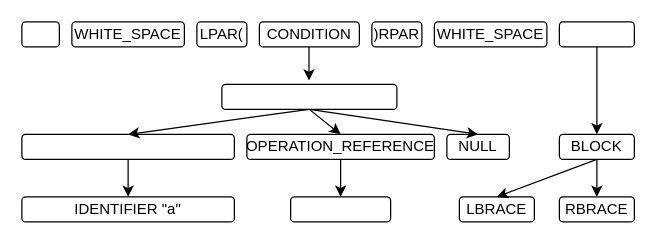
This 656x244 diagram has some shape labels left out. Each missing label, with the centre of its shape:
BINARY_EXPRESSION: [309,96]
EXCLEQ !=: [340,209]
IF: [40,34]
REFERENCE_EXPRESSION: [127,146]
THEN: [596,34]
